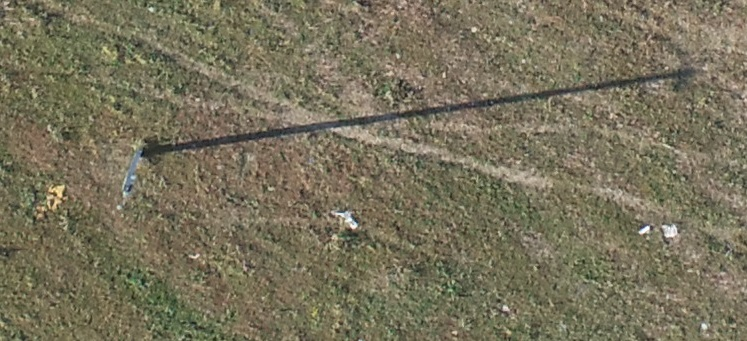opora: (120, 133, 232, 199)
